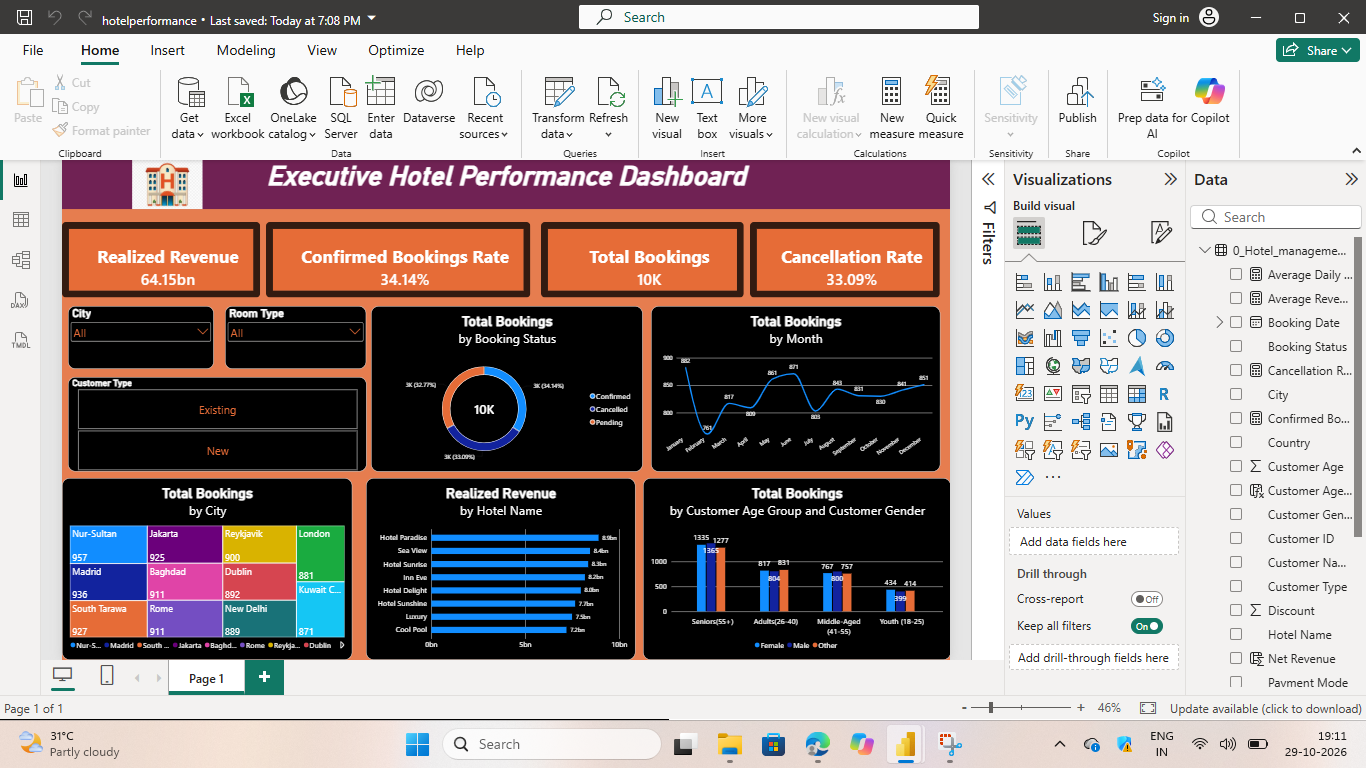

Layout of this report page (visuals, bound fields, positions):
{"tool":"powerbi","page":{"name":"Page 1","canvas":[1920,1080],"ordinal":0},"visuals":[{"type":"textbox","title":"Executive Hotel Performance Dashboard","box":[0,0,1920,105.8],"z":0},{"type":"cardVisual","fields":{"Data":["0_Hotel_management Data.Realized Revenue"]},"box":[0,133.9,428.3,163.8],"z":1000},{"type":"cardVisual","fields":{"Data":["0_Hotel_management Data.Confirmed Occupancy Rate"]},"box":[440.9,133.5,572,163.8],"z":2000},{"type":"cardVisual","fields":{"Data":["0_Hotel_management Data.Total Bookings"]},"box":[1035.6,133.5,438.4,163.8],"z":3000},{"type":"cardVisual","fields":{"Data":["0_Hotel_management Data.Cancellation Rate"]},"box":[1486.6,133.5,410.7,163.8],"z":4000},{"type":"donutChart","fields":{"Category":["0_Hotel_management Data.Booking Status"],"Y":["0_Hotel_management Data.Total Bookings"]},"box":[667.7,315,587.1,357.8],"z":5000},{"type":"lineChart","fields":{"Category":["0_Hotel_management Data.Booking Date.Variation.Date Hierarchy.Month"],"Y":["0_Hotel_management Data.Total Bookings"]},"box":[1272.4,315,624.9,357.8],"z":6000},{"type":"clusteredColumnChart","fields":{"Category":["0_Hotel_management Data.Customer Age Group"],"Series":["0_Hotel_management Data.Customer Gender"],"Y":["0_Hotel_management Data.Total Bookings"]},"box":[1254.8,687.9,665.2,393.1],"z":7000},{"type":"clusteredBarChart","fields":{"Category":["0_Hotel_management Data.Hotel Name"],"Y":["0_Hotel_management Data.Realized Revenue"]},"box":[657.6,687.9,582,393.1],"z":8000},{"type":"treemap","fields":{"Group":["0_Hotel_management Data.City","0_Hotel_management Data.Country"],"Values":["0_Hotel_management Data.Total Bookings"]},"box":[0,687.9,627.4,393.1],"z":9000},{"type":"slicer","fields":{"Values":["0_Hotel_management Data.City"]},"box":[12.6,315,315,136.1],"z":10000},{"type":"slicer","fields":{"Values":["0_Hotel_management Data.Room Type"]},"box":[352.8,315,304.9,136.1],"z":11000},{"type":"slicer","fields":{"Values":["0_Hotel_management Data.Customer Type"]},"box":[12.6,468.7,645,204.1],"z":12000},{"type":"image","box":[100.8,0,252,105.8],"z":13000}]}

Visuals, with their boxes on the page's 1920x1080 design canvas (x1, y1, x2, y2). These are canvas units, not pixel positions in the 1366x768 screenshot, which may show the page scaled, cropped or inside an application window:
"Executive Hotel Performance Dashboard" textbox: select_region(0, 0, 1920, 106)
cardVisual - 0_Hotel_management Data.Realized Revenue: select_region(0, 134, 428, 298)
cardVisual - 0_Hotel_management Data.Confirmed Occupancy Rate: select_region(441, 134, 1013, 297)
cardVisual - 0_Hotel_management Data.Total Bookings: select_region(1036, 134, 1474, 297)
cardVisual - 0_Hotel_management Data.Cancellation Rate: select_region(1487, 134, 1897, 297)
donutChart - 0_Hotel_management Data.Booking Status x 0_Hotel_management Data.Total Bookings: select_region(668, 315, 1255, 673)
lineChart - 0_Hotel_management Data.Booking Date.Variation.Date Hierarchy.Month x 0_Hotel_management Data.Total Bookings: select_region(1272, 315, 1897, 673)
clusteredColumnChart - 0_Hotel_management Data.Customer Age Group x 0_Hotel_management Data.Customer Gender: select_region(1255, 688, 1920, 1081)
clusteredBarChart - 0_Hotel_management Data.Hotel Name x 0_Hotel_management Data.Realized Revenue: select_region(658, 688, 1240, 1081)
treemap - 0_Hotel_management Data.City x 0_Hotel_management Data.Country: select_region(0, 688, 627, 1081)
slicer - 0_Hotel_management Data.City: select_region(13, 315, 328, 451)
slicer - 0_Hotel_management Data.Room Type: select_region(353, 315, 658, 451)
slicer - 0_Hotel_management Data.Customer Type: select_region(13, 469, 658, 673)
image: select_region(101, 0, 353, 106)
